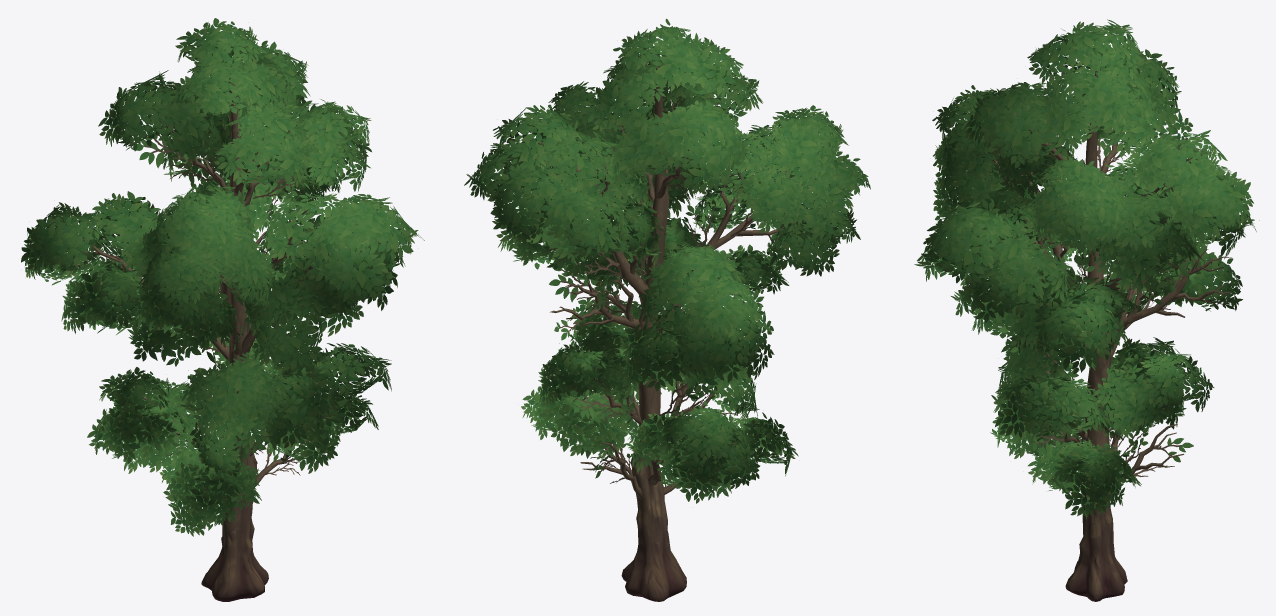
Rendered from SM_FW01_Tree_B_08.fbx.
3 renders of one model, left to right at view 1: azimuth 30°, elevation 25°; view 2: azimuth 150°, elevation 25°; view 3: azimuth 270°, elevation 25°, orthographic.
Parts seen in each view (by area): view 1: SM_FW01_Tree_B_08_LOD0; view 2: SM_FW01_Tree_B_08_LOD0; view 3: SM_FW01_Tree_B_08_LOD0.
Part boxes in pixels (x1,y1,x2,y2): SM_FW01_Tree_B_08_LOD0: [21, 18, 424, 601]; SM_FW01_Tree_B_08_LOD0: [464, 18, 870, 601]; SM_FW01_Tree_B_08_LOD0: [914, 19, 1259, 601].
Size of what is drawn, in the model's own units: 5.89 by 9.65 by 5.47.
